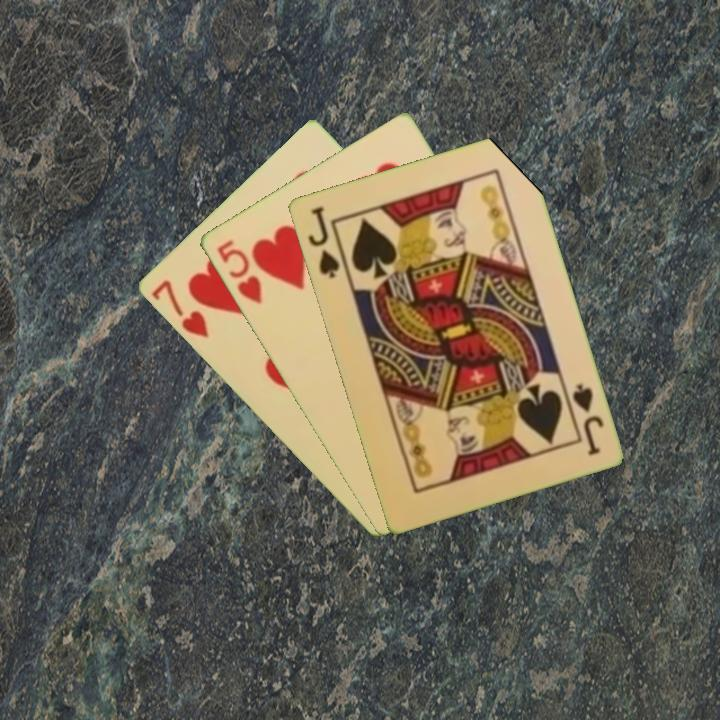5h: (213, 235, 265, 307)
7h: (147, 276, 212, 341)
Js: (304, 202, 342, 281), (568, 380, 606, 458)
